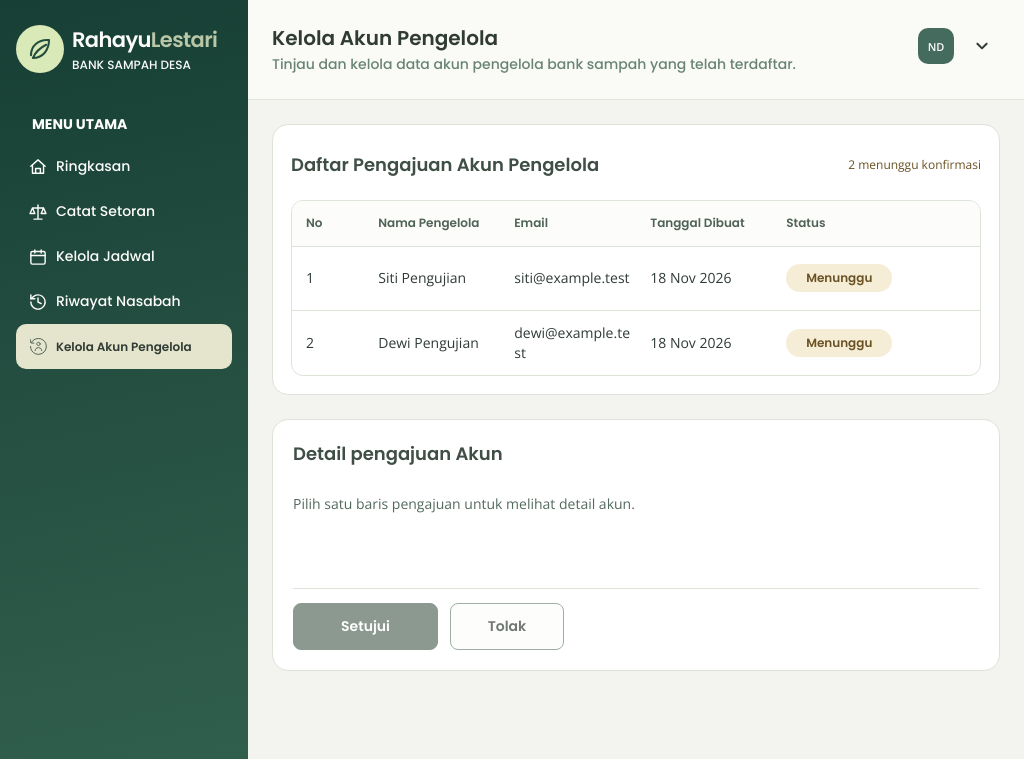
Scenario: Kelola Akun Pengelola › aborts a slow detail and ignores its late response after another row is selected
Step 1. Click the button "Siti Pengujian" → [426, 278], box [378,268,473,288]
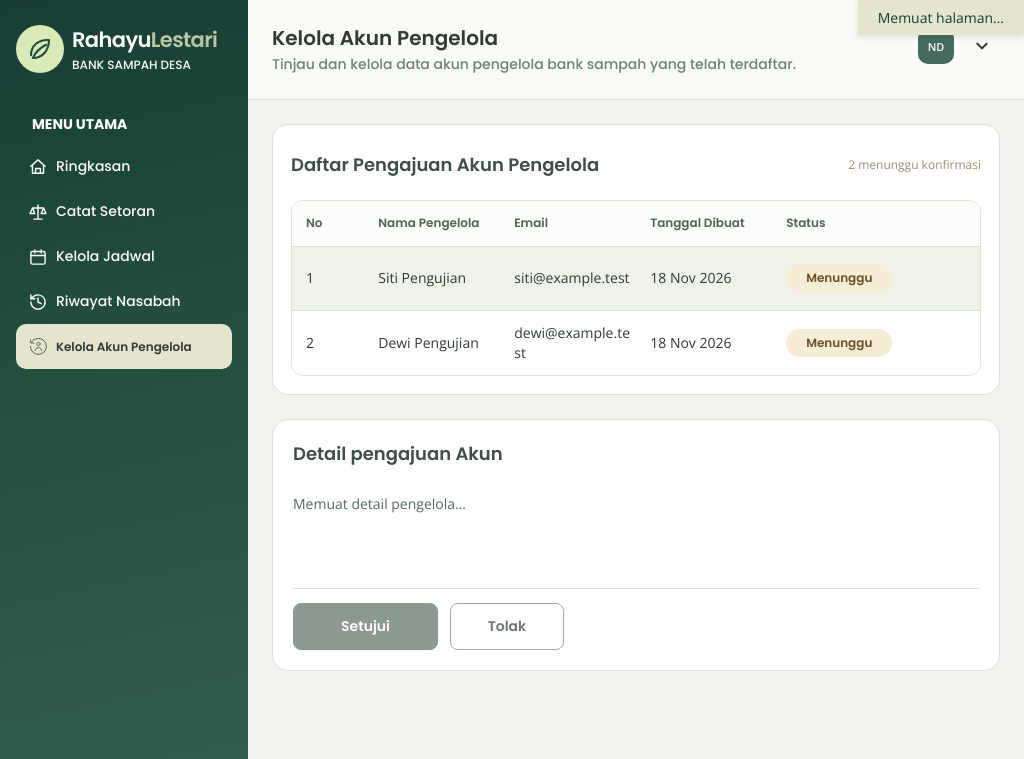
Expected: the text "Memuat detail pengelola…" is shown, [293,494,466,512]
Step 2. Click the button "Dewi Pengujian" → [428, 342], box [378,332,479,352]
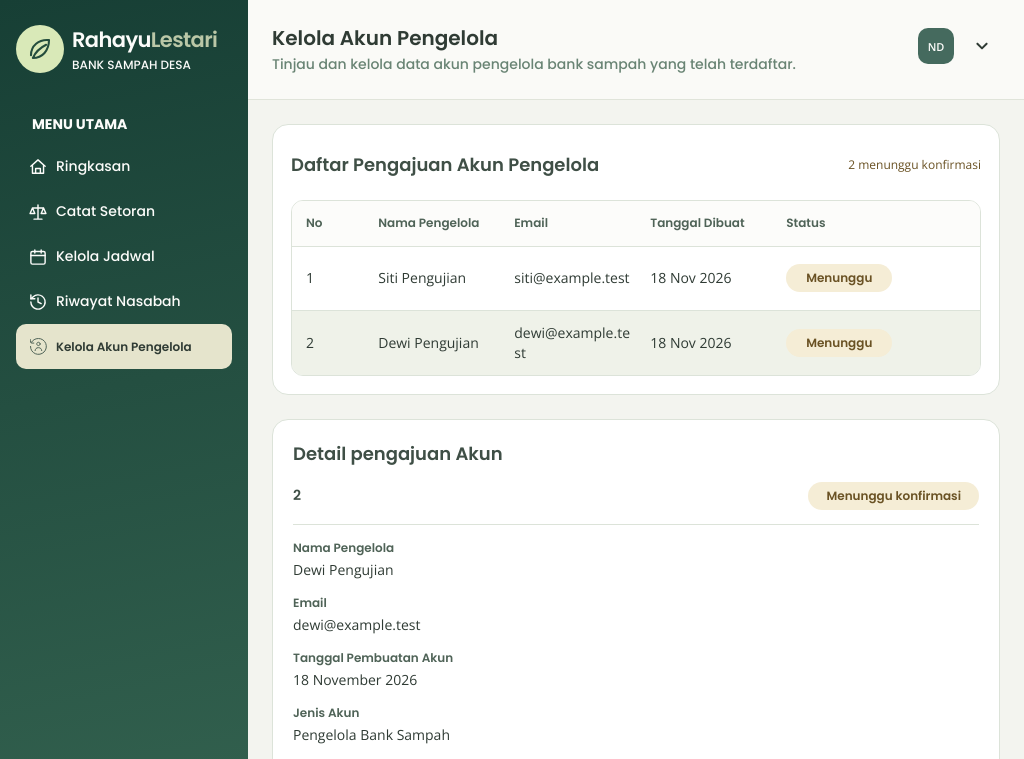
Expected: the text "dewi@example.test" is shown, [293,614,420,634]
